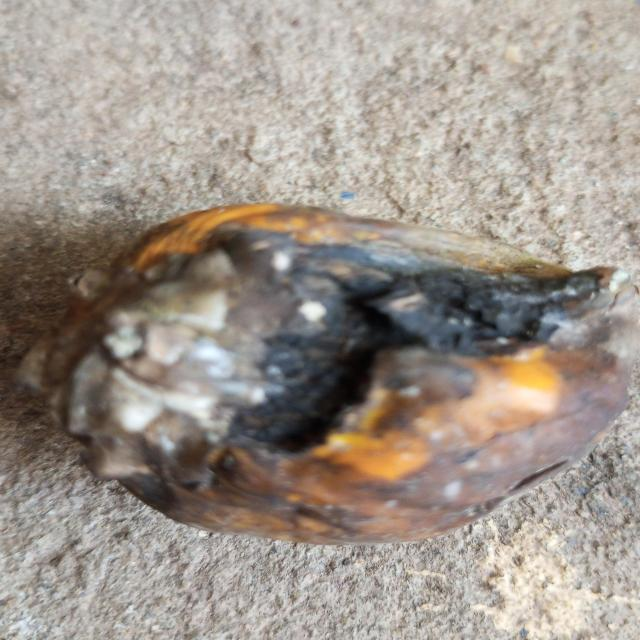damaged: (19, 204, 637, 543)
